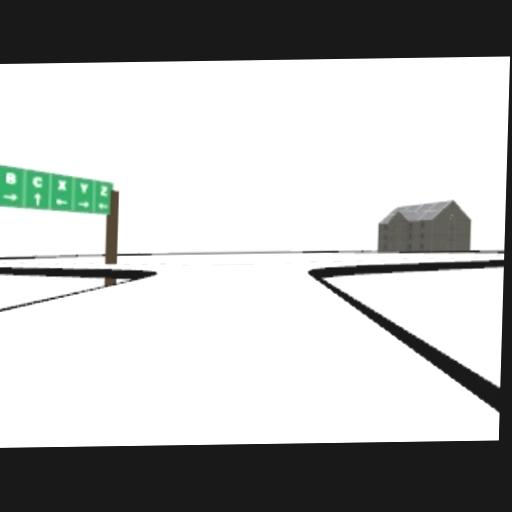B: (5, 171, 16, 186)
C: (33, 175, 42, 187)
Left: (55, 199, 67, 205), (99, 202, 110, 208)
Right: (3, 194, 17, 200), (77, 201, 90, 206)
Straight: (33, 192, 41, 205)
X: (59, 178, 68, 190)
Y: (79, 183, 88, 193)
Z: (99, 185, 108, 196)
